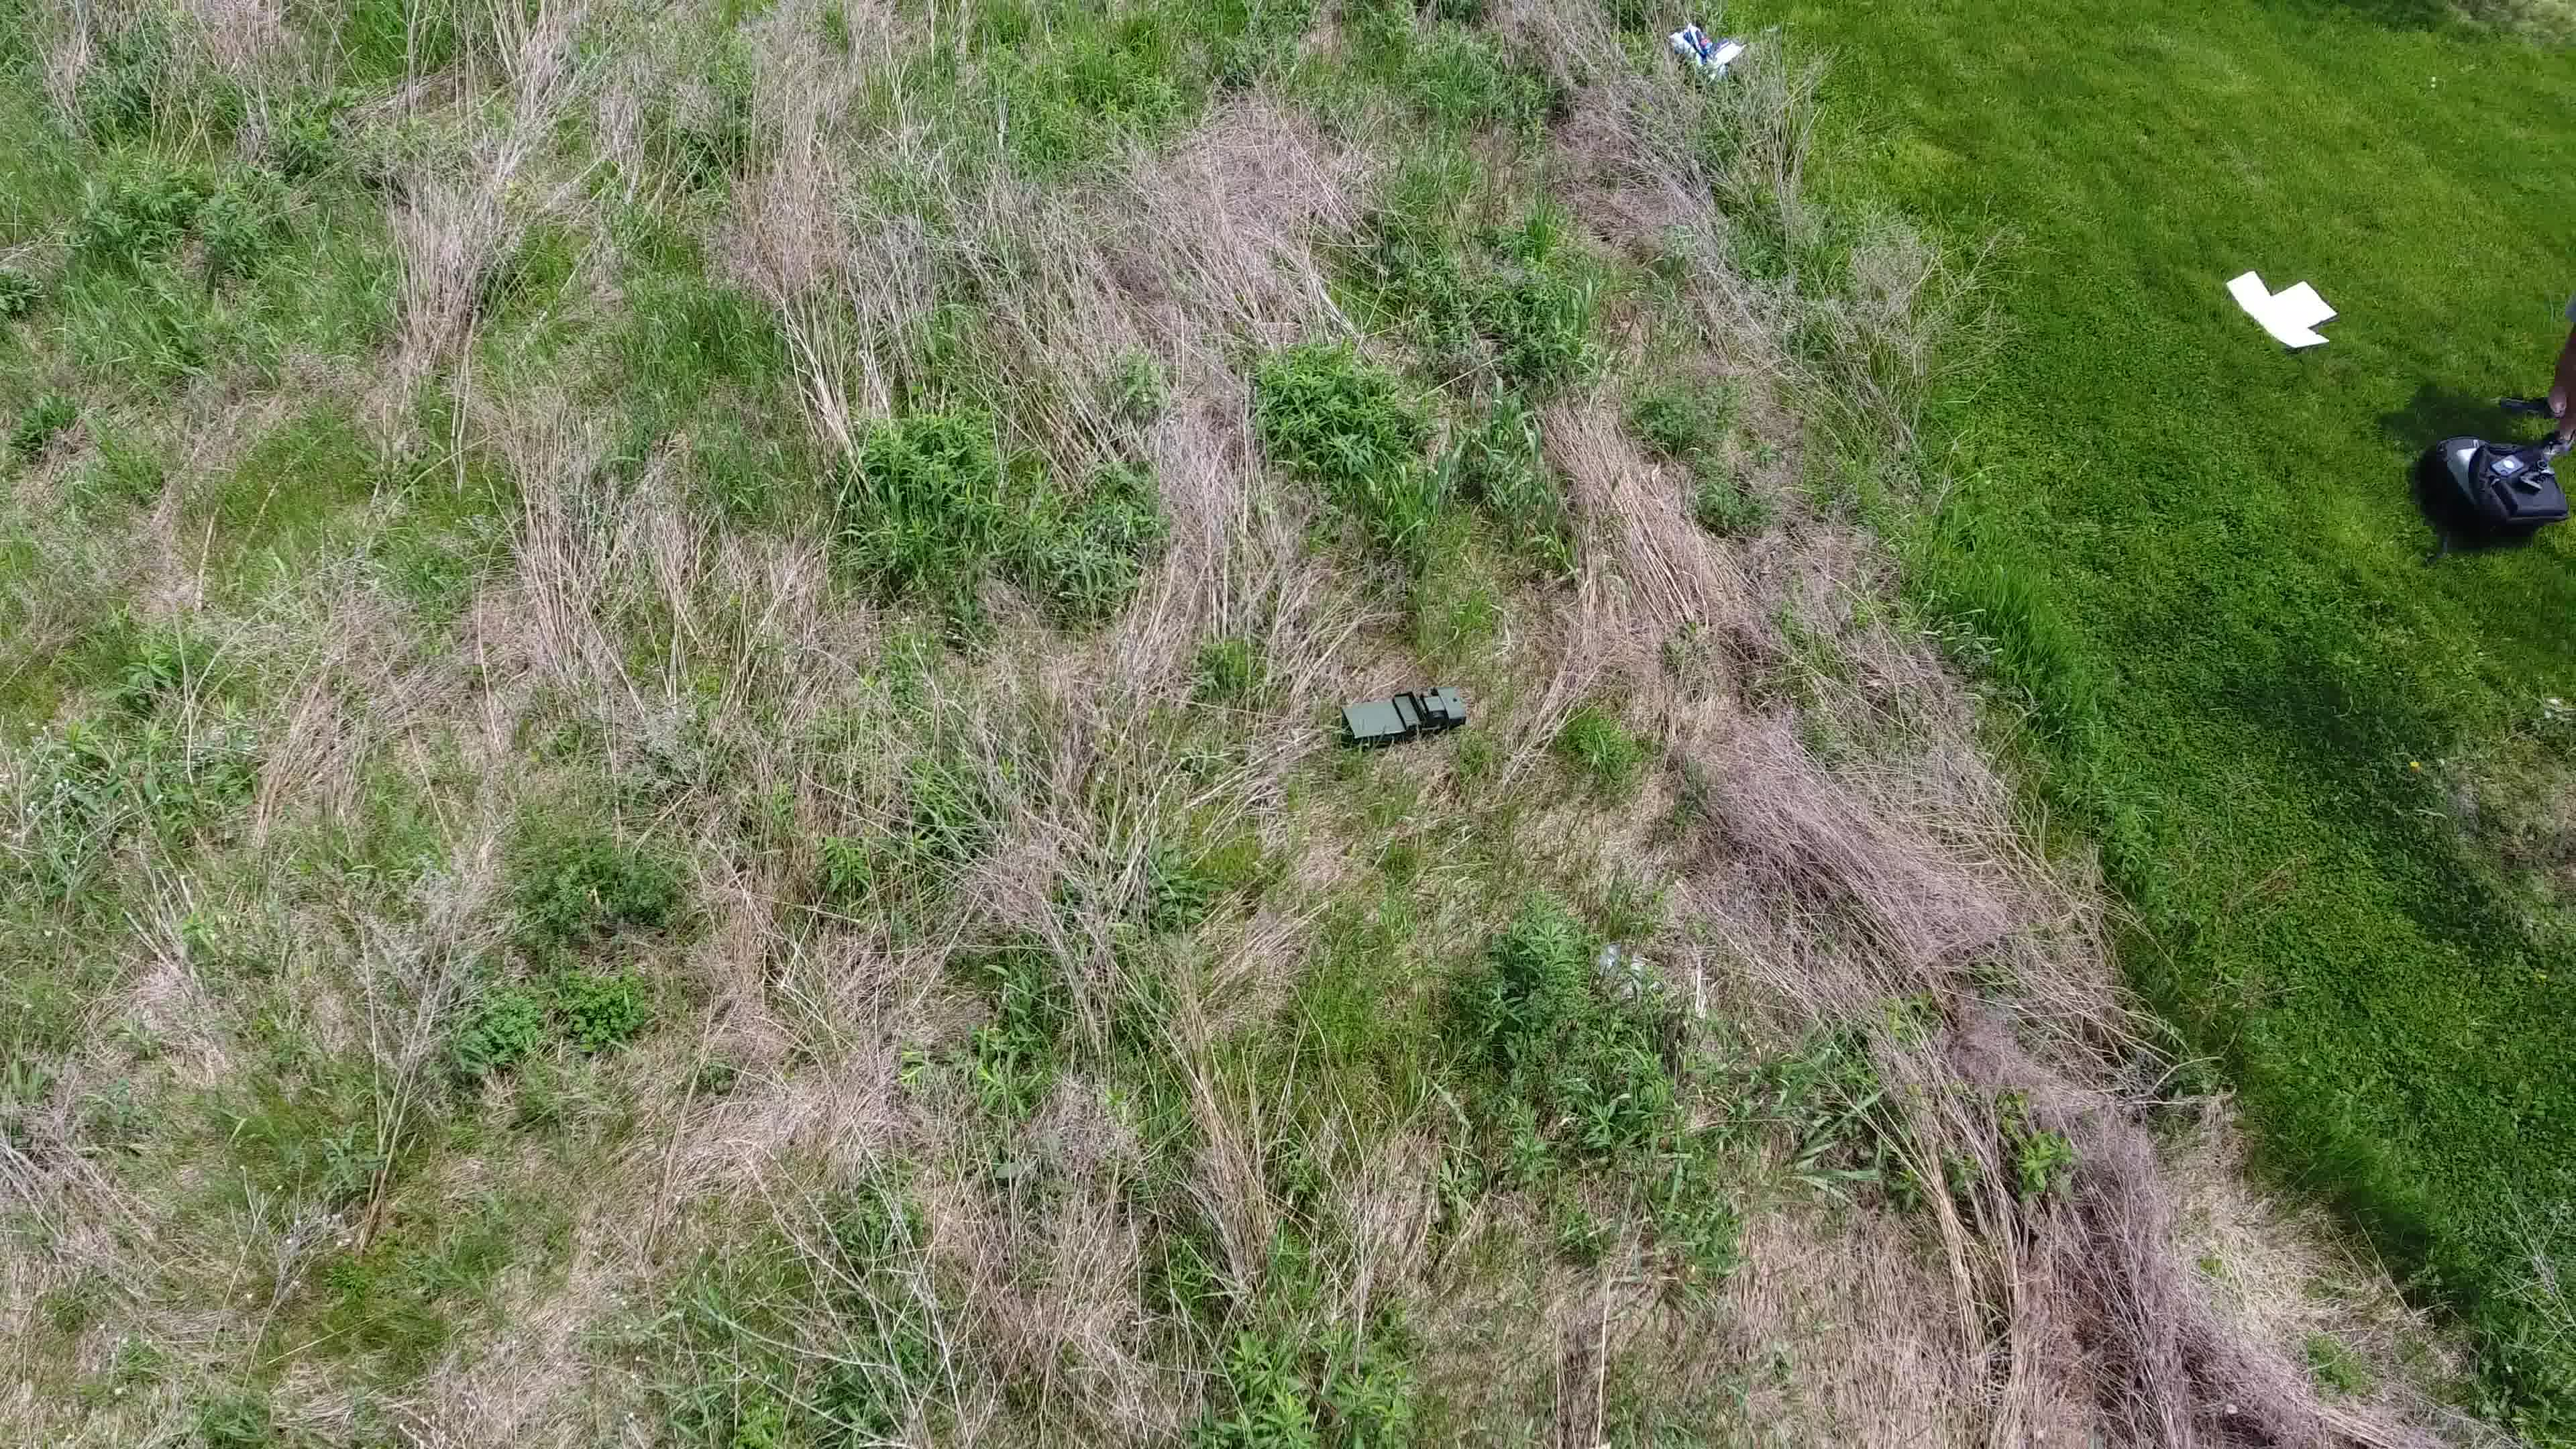transporter9: (1334, 672, 1468, 747)
